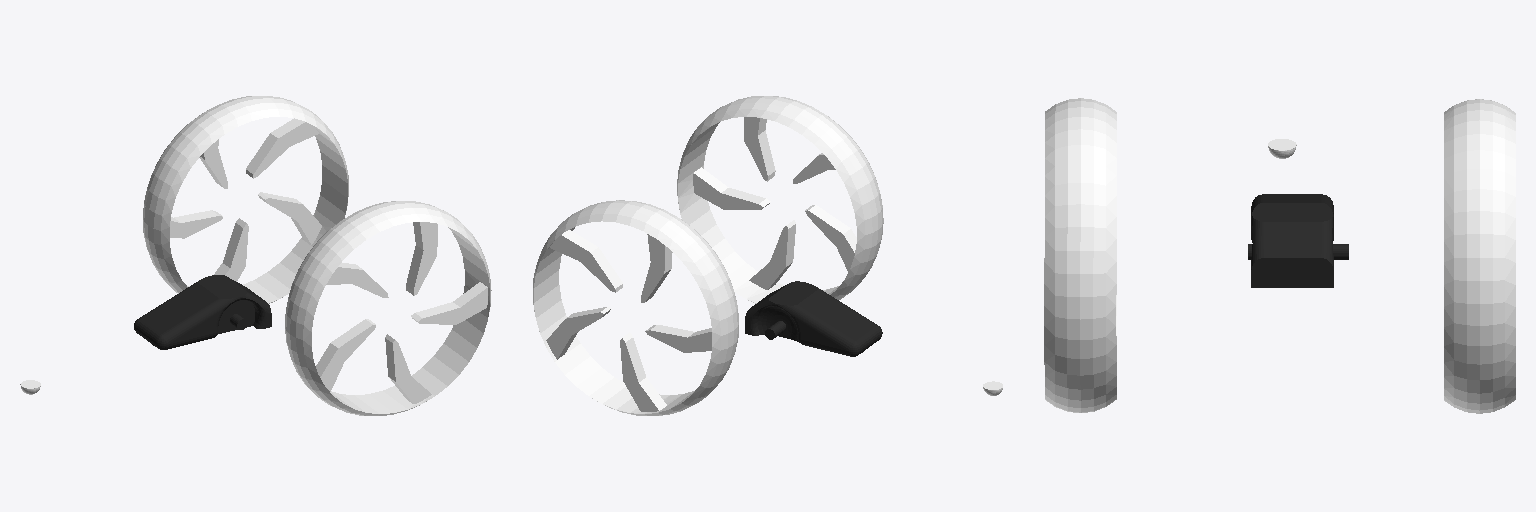
The robot description file, URDF, robot "maze_bot":
<robot name="maze_bot">

    <!-- <link name="base_footprint"/> -->
    <link name="base">
      
      <inertial>
        <mass value="5" />
        <origin xyz="0 0 0" rpy="0 0 0" />
        <inertia ixx="0.004" ixy="0.001" ixz="0" iyy="0.006" iyz="0" izz="0.007" />
      </inertial>

      <visual>
        <geometry>
            <mesh filename="package://maze_bot/meshes/base_link.stl"/>
            <!-- <box size="0.75 0.4 0.1"/> -->
        </geometry>
        <material name="gray">
          <color rgba=".2 .2 .2 1" />
        </material>
      </visual>
  
      <collision>
        <geometry>
            <box size="0.75 0.4 0.1"/>
        </geometry>
        <contact_coefficients mu="0" kp="1000.0" kd="1.0"/>
      </collision>

      
    </link>
    <!-- <joint name="base_joint" type="fixed">
      <parent link="base_footprint"/>
      <child link="base"/>
      <origin rpy="0 0 0" xyz="0 0 0.15 "/>
    </joint> -->


  <link name="wheel_right">
      <inertial>
        <mass value="1"/>
        <inertia ixx="100" ixy="0" ixz="0" iyy="100" iyz="0" izz="100" />
        <origin/>
      </inertial>
  
      <visual>
        
        <geometry>
            <mesh filename="package://maze_bot/meshes/wheel.stl"/>
            <!-- <box size="0.75 0.4 0.1"/> -->
        </geometry>

        <material name="white">
          <color rgba="1 1 1 1"/>
        </material>
      </visual>
  
      <collision>
      
        <geometry>
            <cylinder radius="0.15" length="0.1"/>
        </geometry>
        <contact_coefficients mu="0" kp="1000.0" kd="1.0"/>
      </collision>
    </link>
  
    <joint name="wheel_right_joint" type="continuous">
      <origin xyz="0.4 0.36 0.17" rpy="0 0.0 0.0"/>
      <parent link="base"/>
      <child link="wheel_right"/>
      <axis xyz="0.0 1.0 0"/>
    </joint>
  
    <link name="wheel_left">
      <inertial>
        <mass value="1"/>
        <inertia ixx="100" ixy="0" ixz="0" iyy="100" iyz="0" izz="100" />
        <origin/>
      </inertial>
  
      <visual>
        
        <geometry>
            <mesh filename="package://maze_bot/meshes/wheel.stl"/>
            <!-- <box size="0.75 0.4 0.1"/> -->
        </geometry>
        
        <material name="white">
          <color rgba="1 1 1 1"/>
        </material>
      </visual>
  
      <collision>
        <geometry>
            <mesh filename="package://maze_bot/meshes/wheel.stl"/>
            <!-- <box size="0.75 0.4 0.1"/> -->
        </geometry>
        <contact_coefficients mu="0" kp="1000.0" kd="1.0"/>
      </collision>
    </link>
  
    <joint name="wheel_left_joint" type="continuous">
      <origin xyz="0.4 -0.43 0.17" rpy="0 0.0 3.14"/>
      <parent link="base"/>
      <child link="wheel_left"/>
      <axis xyz="0.0 1 0"/>
  
    </joint>
  
  
  
    <link name="caster">
      <inertial>
        <mass value="1"/>
        <inertia ixx="100" ixy="0" ixz="0" iyy="100" iyz="0" izz="100" />
        <origin/>
      </inertial>
  
      <visual>
        <geometry>
            <mesh filename="package://maze_bot/meshes/front_caster.stl"/>
            <!-- <box size="0.75 0.4 0.1"/> -->
        </geometry>
        <material name="white" />
      </visual>
  
      <collision>
        <origin/>
        <geometry>
          <sphere radius=".02" />
        </geometry>
        <contact_coefficients mu="0" kp="1000.0" kd="1.0"/>
      </collision>
    </link>
  
    <joint name="caster_joint" type="continuous">
      <origin xyz="-0.62 -0.03 -0.05" rpy="0.0 0.0 0.0"/>
      <axis xyz="0 0 1" />
      <parent link="base"/>
      <child link="caster"/>
    </joint> 
  
  </robot>
  

--- Render facts (derived) ---
Views: 3 orthographic renders of the robot side by side, from view 1: azimuth 30°, elevation 25°; view 2: azimuth 150°, elevation 25°; view 3: azimuth 270°, elevation 25°.
Robot: maze_bot — 4 links, 3 joints (3 continuous); root link base; default pose: every joint at zero.
Visible links, largest first — view 1: wheel_left, wheel_right, base; view 2: wheel_right, wheel_left, base; view 3: wheel_left, wheel_right, base.
Boxes of the visible links, left/top/right/bottom form: wheel_left: left=285, top=201, right=491, bottom=415; wheel_right: left=143, top=96, right=348, bottom=303; base: left=134, top=275, right=271, bottom=349; wheel_right: left=533, top=200, right=738, bottom=415; wheel_left: left=677, top=96, right=883, bottom=303; base: left=745, top=281, right=882, bottom=356; wheel_left: left=1044, top=98, right=1116, bottom=412; wheel_right: left=1444, top=99, right=1515, bottom=413; base: left=1248, top=194, right=1348, bottom=287.
Size in the robot's own frame: 1.4 by 1.05 by 0.7001 metres.
4 mesh visuals loaded from 3 distinct referenced files (3 binary STL).